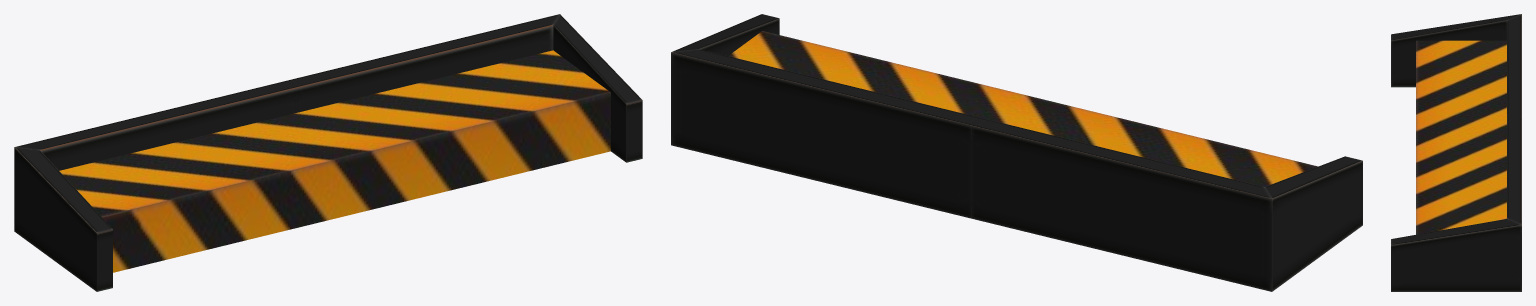
The model's file is Beacon Bulb Base.fbx.
The picture shows the model from 3 angles, left to right: view 1: azimuth 30°, elevation 25°; view 2: azimuth 150°, elevation 25°; view 3: azimuth 270°, elevation 25°; orthographic projection. The views are drawn at different scales.
Parts seen in each view (by area): view 1: Beacon Bulb Base; view 2: Beacon Bulb Base; view 3: Beacon Bulb Base.
Boxes of the visible parts, x1,y1,x2,y2 form: Beacon Bulb Base: (14, 14, 642, 291); Beacon Bulb Base: (671, 14, 1362, 291); Beacon Bulb Base: (1391, 14, 1521, 291).
Size of the model in its own units: 317 by 46.86 by 82.85.
